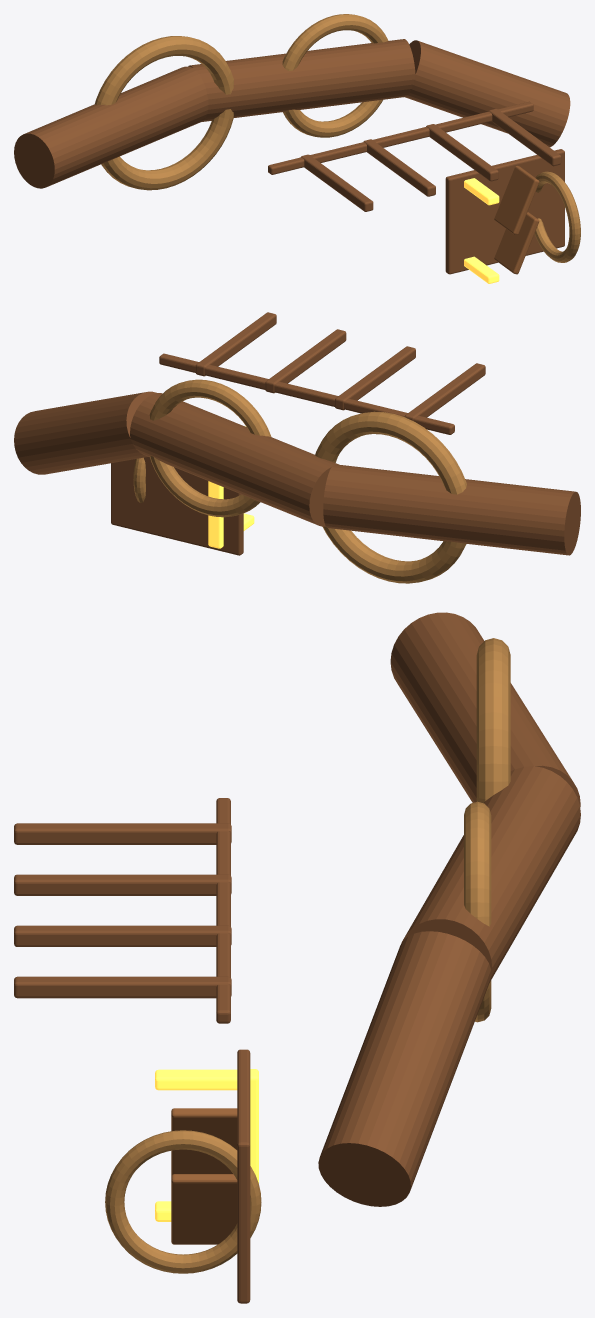
Rendered from ballworks_structure.glb.
3 renders of one model, top to bottom at view 1: azimuth 30°, elevation 25°; view 2: azimuth 150°, elevation 25°; view 3: azimuth 270°, elevation 25°, orthographic. The views are drawn at different scales.
Visible parts, largest first — view 1: UpperTubeA, UpperTubeB, UpperTubeC, MechanismHousing, TubeLoopA, TubeLoopB, PortalFrame, Flap_0.9, Flap_-0.9, Support_-1.0, Support_5.0, Support_8.0 (+7 smaller); view 2: UpperTubeA, UpperTubeB, UpperTubeC, TubeLoopA, MechanismHousing, TubeLoopB, Support_5.0, Support_8.0, Support_2.0, Support_-1.0, Support_5.0_cross, Support_8.0_cross (+4 smaller); view 3: UpperTubeC, UpperTubeB, UpperTubeA, PortalFrame, TubeLoopA, Support_8.0, Support_-1.0, Support_2.0, Support_5.0, Flap_-0.9, TubeLoopB, MechanismHousing (+4 smaller).
Part boxes in pixels (bbox=[...]): UpperTubeA: bbox=[14, 66, 208, 188]; UpperTubeB: bbox=[188, 39, 415, 121]; UpperTubeC: bbox=[404, 40, 570, 147]; MechanismHousing: bbox=[445, 149, 564, 274]; TubeLoopA: bbox=[94, 36, 233, 190]; TubeLoopB: bbox=[282, 14, 388, 137]; PortalFrame: bbox=[534, 171, 580, 262]; Flap_0.9: bbox=[494, 166, 539, 234]; Flap_-0.9: bbox=[494, 212, 539, 274]; Support_-1.0: bbox=[301, 154, 373, 211]; Support_5.0: bbox=[426, 124, 498, 181]; Support_8.0: bbox=[488, 108, 561, 166]; UpperTubeA: bbox=[323, 464, 580, 555]; UpperTubeB: bbox=[130, 393, 338, 526]; UpperTubeC: bbox=[14, 391, 156, 474]; TubeLoopA: bbox=[315, 411, 466, 583]; MechanismHousing: bbox=[111, 457, 243, 555]; TubeLoopB: bbox=[149, 379, 271, 517]; Support_5.0: bbox=[265, 329, 346, 393]; Support_8.0: bbox=[195, 312, 276, 376]; Support_2.0: bbox=[335, 346, 415, 410]; Support_-1.0: bbox=[404, 363, 485, 420]; Support_5.0_cross: bbox=[230, 370, 312, 400]; Support_8.0_cross: bbox=[159, 353, 242, 383]; UpperTubeC: bbox=[318, 931, 491, 1206]; UpperTubeB: bbox=[401, 766, 580, 981]; UpperTubeA: bbox=[390, 612, 580, 806]; PortalFrame: bbox=[105, 1130, 261, 1273]; TubeLoopA: bbox=[476, 638, 510, 803]; Support_8.0: bbox=[14, 976, 231, 998]; Support_-1.0: bbox=[14, 823, 231, 844]; Support_2.0: bbox=[14, 874, 231, 895]; Support_5.0: bbox=[14, 925, 231, 946]; Flap_-0.9: bbox=[171, 1174, 237, 1244]; TubeLoopB: bbox=[464, 801, 491, 1022]; MechanismHousing: bbox=[237, 1049, 250, 1303].
Size of the model in its own units: 24.93 by 10.62 by 14.07.
